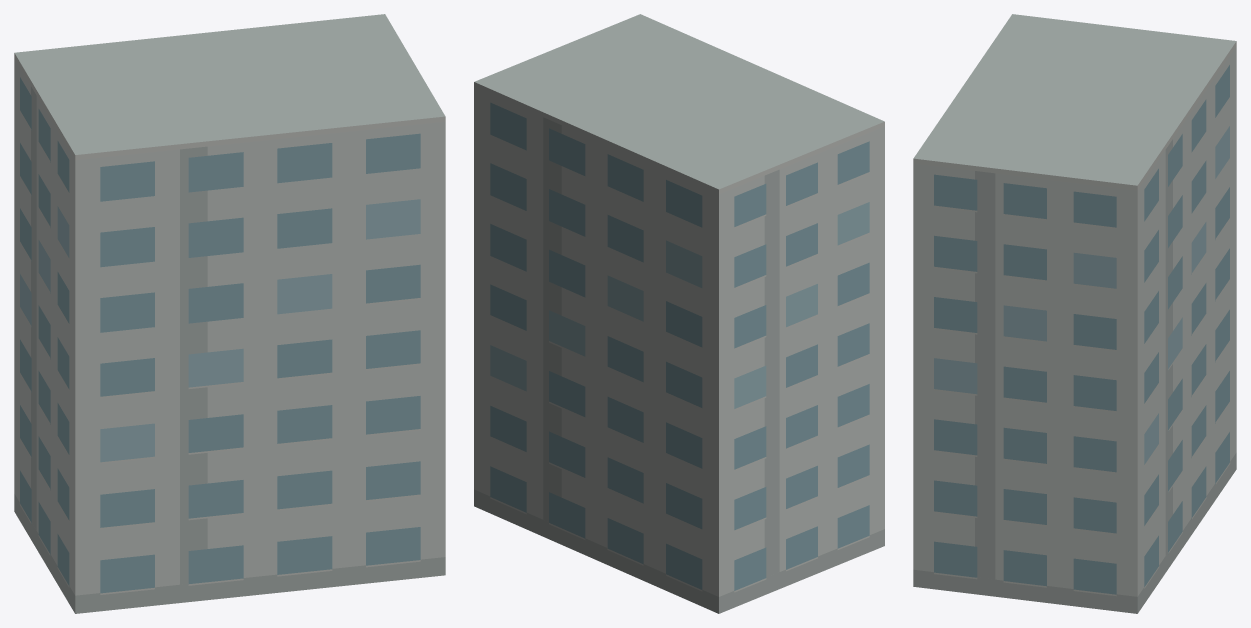
Rendered from survey-upis-32874490.glb.
The picture shows the model from 3 angles, left to right: view 1: azimuth 30°, elevation 25°; view 2: azimuth 150°, elevation 25°; view 3: azimuth 270°, elevation 25°; orthographic projection. The views are drawn at different scales.
Visible parts, largest first — view 1: survey-upis-32874490.tmp; view 2: survey-upis-32874490.tmp; view 3: survey-upis-32874490.tmp.
Boxes of the visible parts, x1,y1,x2,y2 form: survey-upis-32874490.tmp: [14, 14, 445, 613]; survey-upis-32874490.tmp: [474, 14, 884, 613]; survey-upis-32874490.tmp: [913, 14, 1236, 613].
Bounding box in the file's own units: 18.37 × 21.35 × 14.62.
